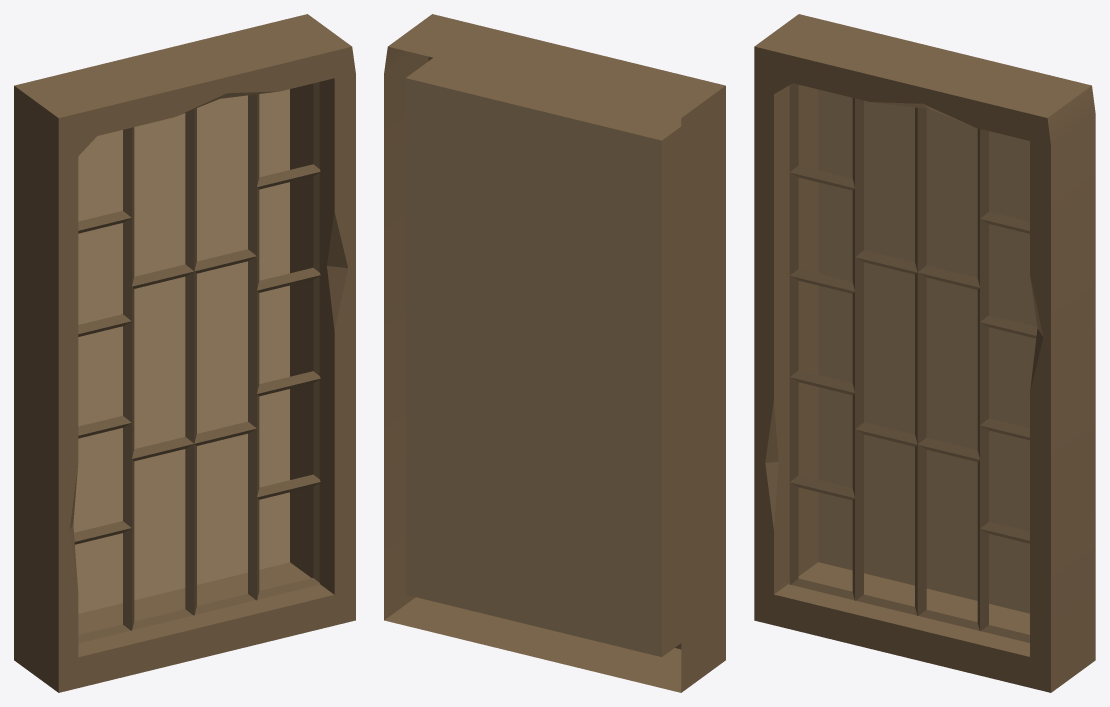
File: SM_Env_Window_02.fbx
3 views of the same model, side by side, from view 1: azimuth 30°, elevation 25°; view 2: azimuth 150°, elevation 25°; view 3: azimuth 330°, elevation 25° (orthographic).
Parts seen in each view (by area): view 1: SM_Env_Window_02; view 2: SM_Env_Window_02; view 3: SM_Env_Window_02.
Boxes of the visible parts, x1,y1,x2,y2 form: SM_Env_Window_02: (14, 14, 355, 692); SM_Env_Window_02: (384, 14, 725, 692); SM_Env_Window_02: (754, 14, 1095, 692).
Bounding box in the file's own units: 52.9 × 97.76 × 13.74.
1 material, 1 textured.
